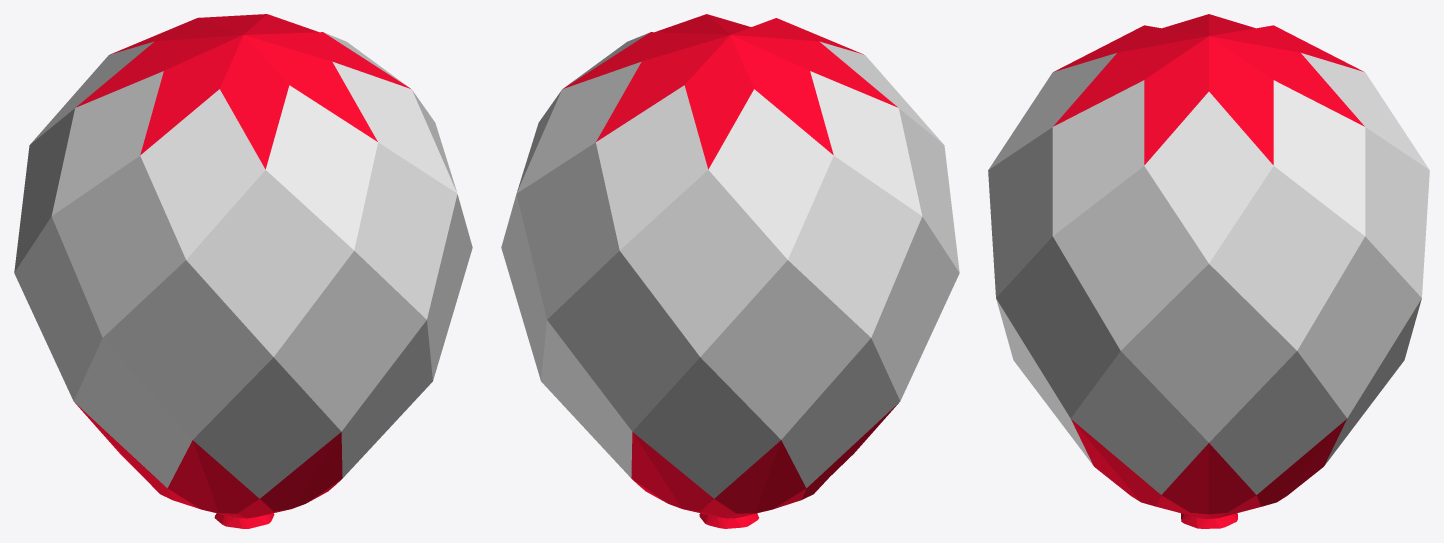
Rendered from RestoreLifeBalloon.fbx.
3 renders of one model, left to right at view 1: azimuth 30°, elevation 25°; view 2: azimuth 150°, elevation 25°; view 3: azimuth 270°, elevation 25°, orthographic.
Visible parts, largest first — view 1: HeartEncasing, HeartInside, HeartOutside; view 2: HeartEncasing, HeartInside, HeartOutside; view 3: HeartEncasing, HeartInside, HeartOutside.
Part boxes in pixels (<box>): HeartEncasing: <box>14,32,472,498</box>; HeartInside: <box>75,14,410,528</box>; HeartOutside: <box>79,14,406,528</box>; HeartEncasing: <box>501,32,959,498</box>; HeartInside: <box>563,14,898,528</box>; HeartOutside: <box>566,14,895,528</box>; HeartEncasing: <box>988,53,1429,494</box>; HeartInside: <box>1053,14,1364,528</box>; HeartOutside: <box>1055,14,1361,528</box>.
Size of the model in its own units: 50.03 by 60.02 by 50.03.
